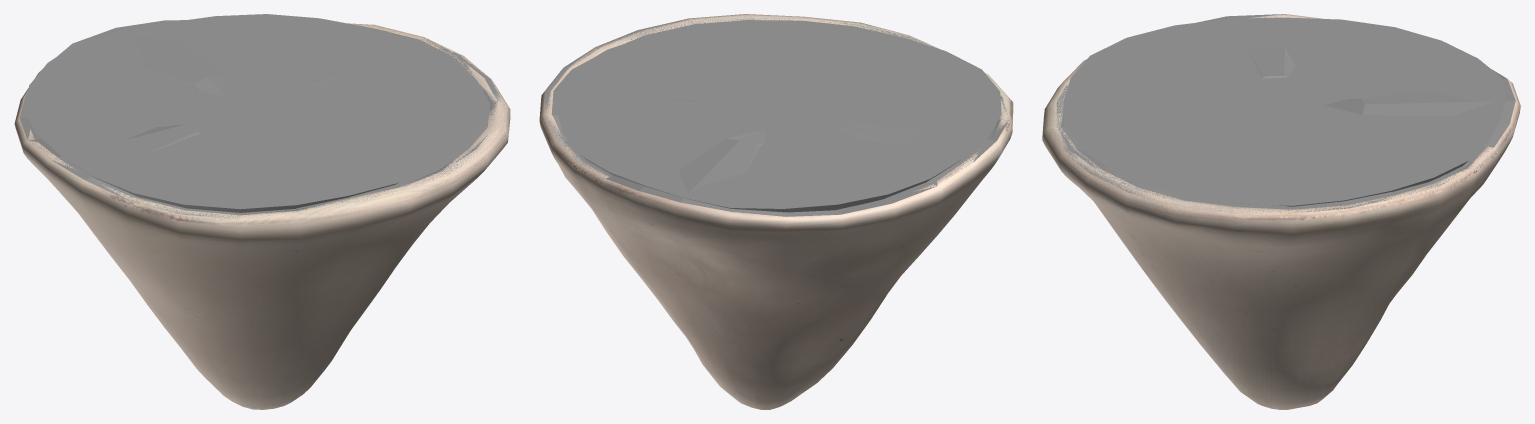
The picture shows the model from 3 angles, left to right: view 1: azimuth 30°, elevation 25°; view 2: azimuth 150°, elevation 25°; view 3: azimuth 270°, elevation 25°; orthographic projection. The views are drawn at different scales.
Parts seen in each view (by area): view 1: Object102, 102, Inner; view 2: Object102, 102, Inner; view 3: Object102, 102, Inner.
Boxes of the visible parts, box(x1,y1,x2,y2) form: Object102: box(25, 14, 482, 212); 102: box(14, 23, 510, 409); Inner: box(19, 20, 501, 218); Object102: box(557, 20, 1001, 212); 102: box(539, 14, 1013, 409); Inner: box(544, 16, 1008, 216); Object102: box(1064, 17, 1505, 206); 102: box(1042, 14, 1520, 409); Inner: box(1050, 14, 1515, 213).
Bounding box in the file's own units: 98.37 × 66.7 × 98.14.
Materials: 2 (1 with a texture image).
